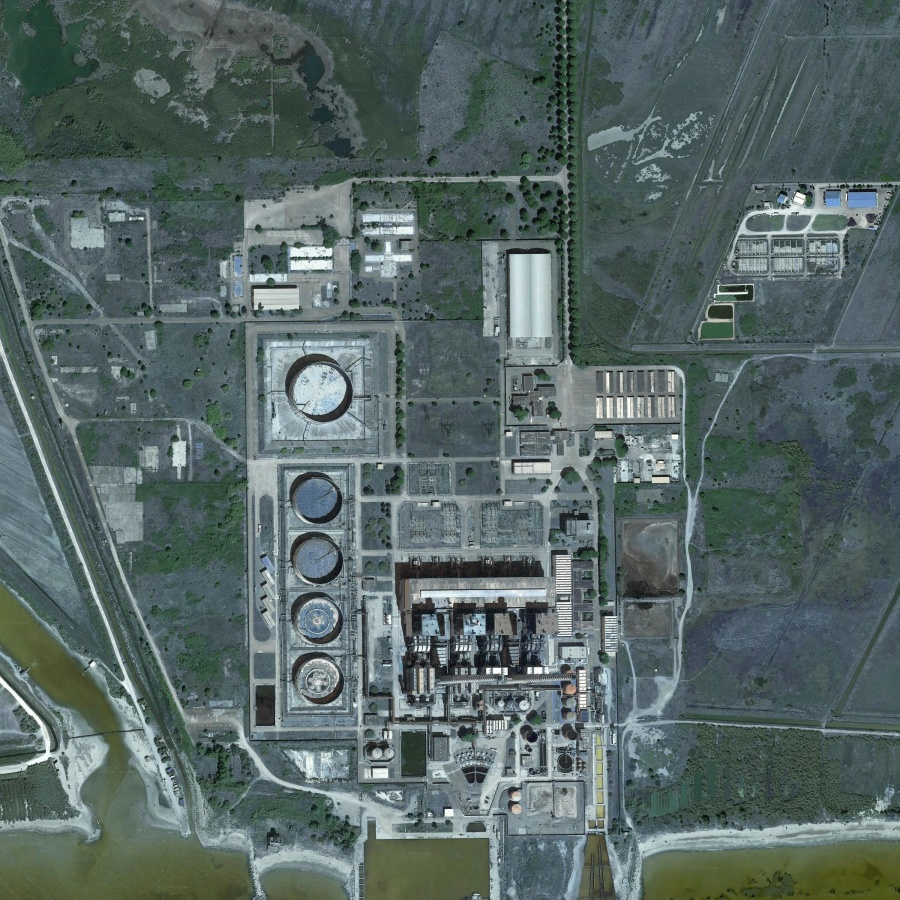PowerPlant: (242, 322, 392, 738)
